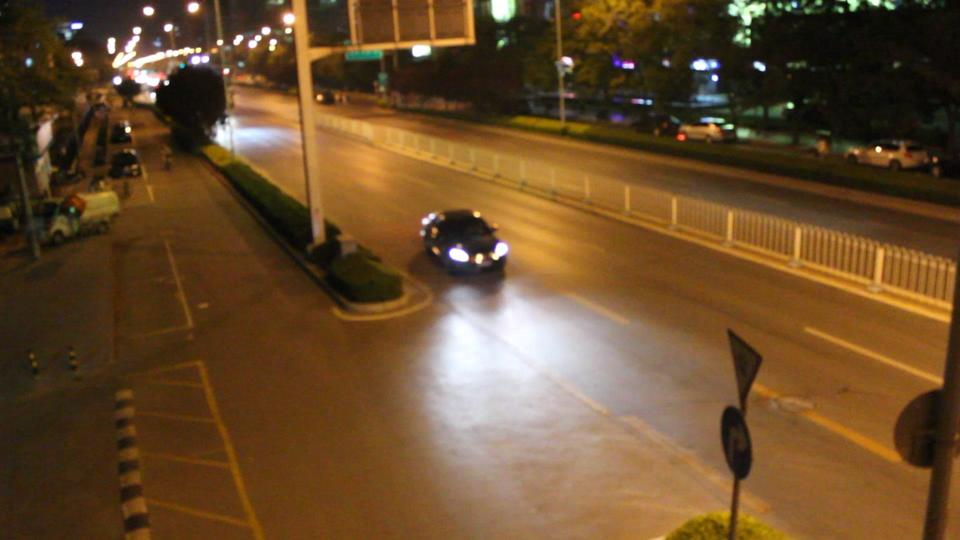Car: (418, 210, 507, 275)
